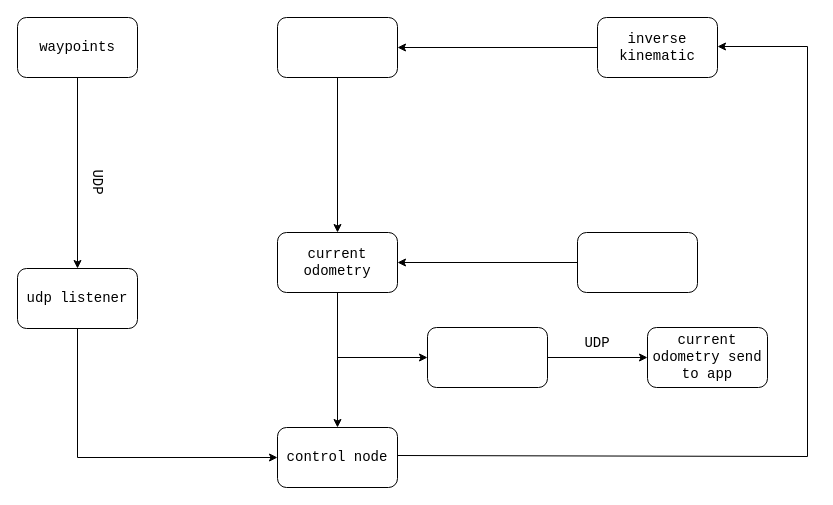
Some shapes in this 833 by 505 pixel diagram are drawn without their labels. Here are the shapes that lost their labels. From the top down, the centre of each, then its label:
At point 337,47: "can driver".
At point 637,262: "hfi a9".
At point 487,357: "udp sender".
